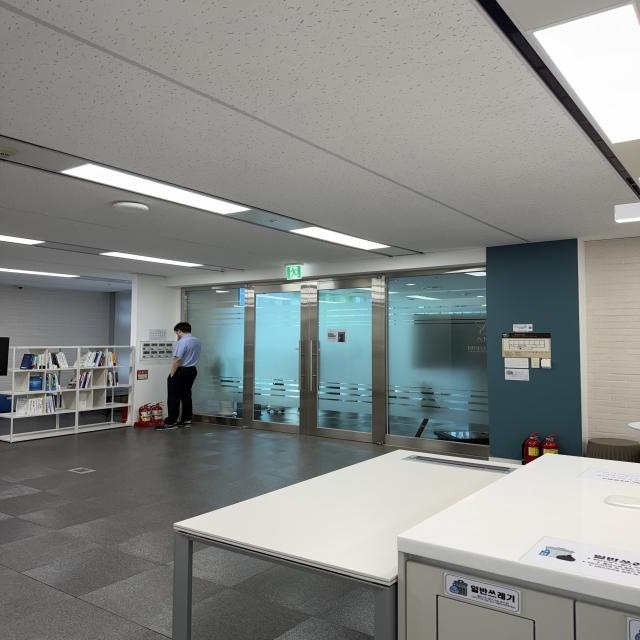front_door: (182, 266, 489, 458)
